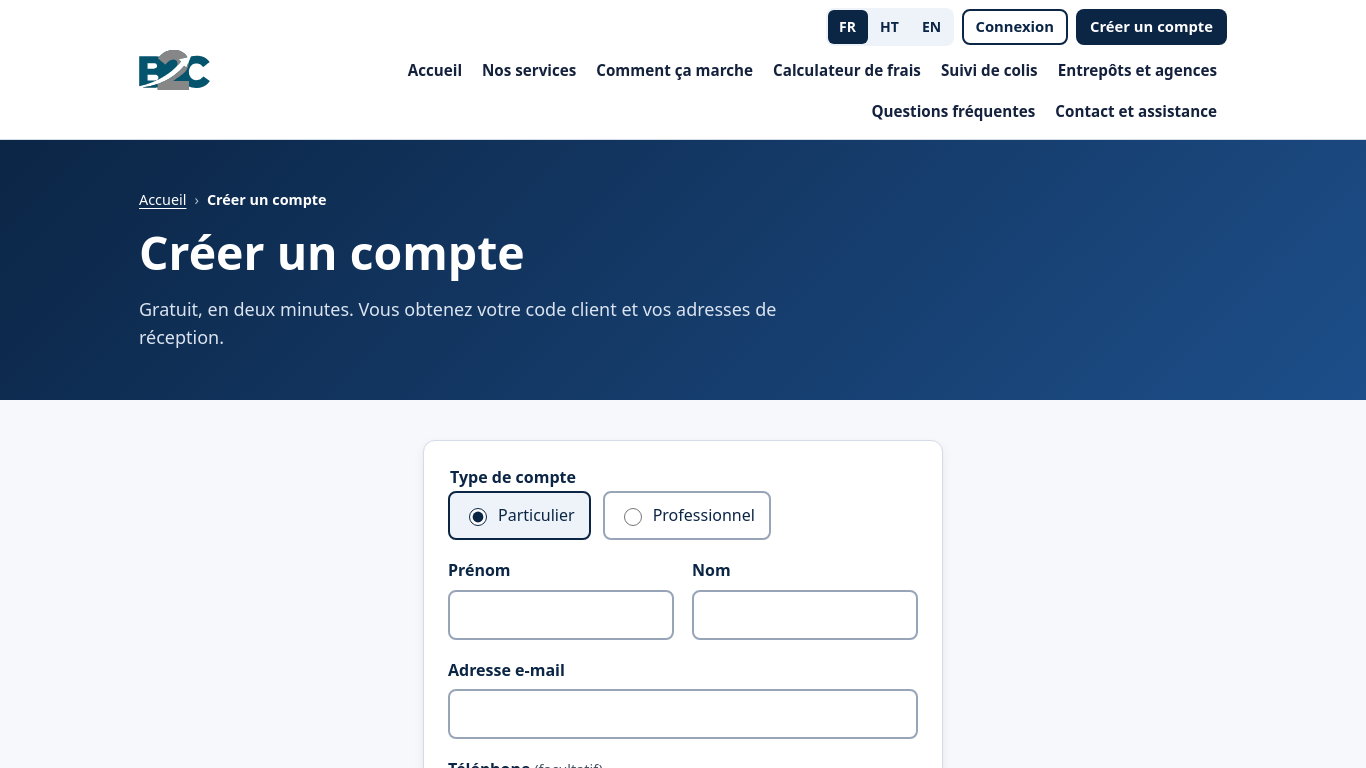
Test case: formulaire d’inscription › une erreur de validation du serveur est rattachée au bon champ, traduite
The width and height of the screenshot is (1366, 768).
Type "Marie" into the field labelled "Prénom" at x=561, y=615, box [448, 590, 674, 640]
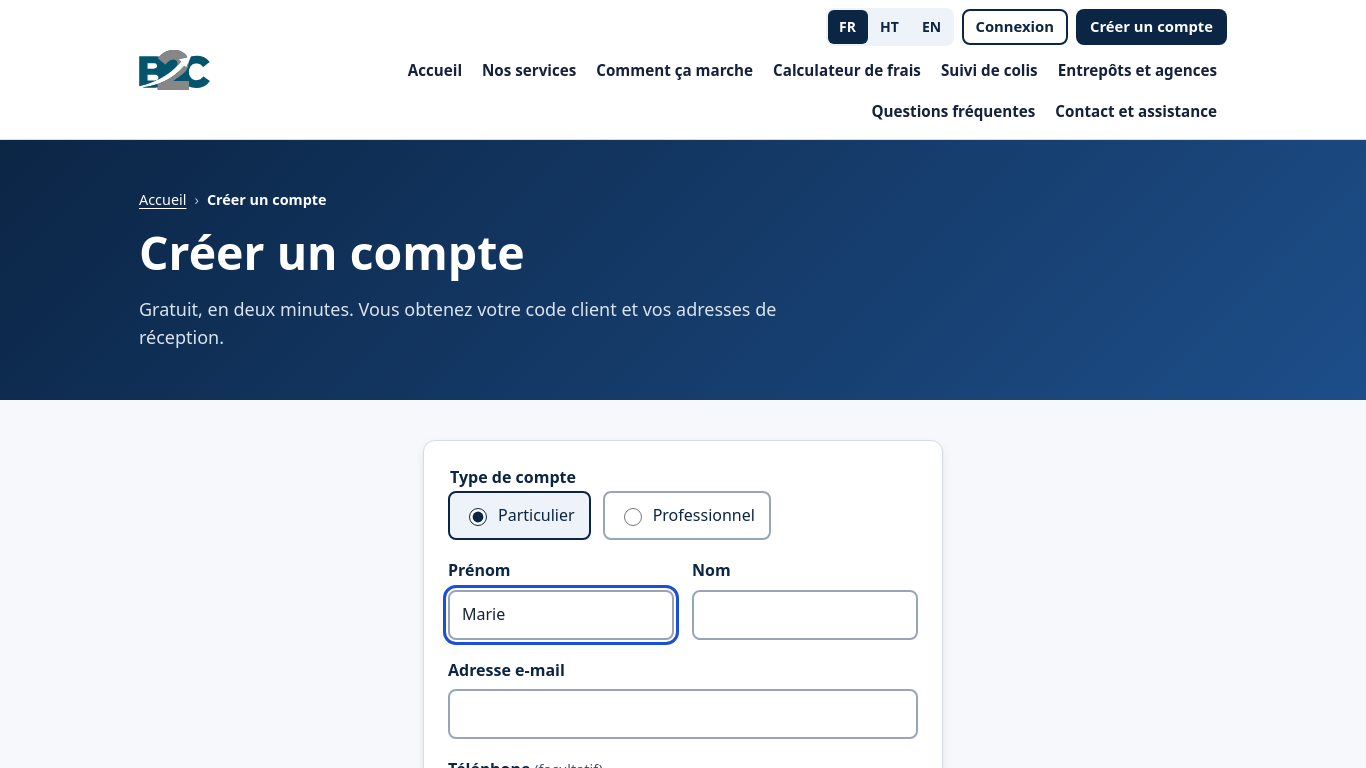
Type "Jean" into the field labelled "Nom" at x=805, y=615, box [692, 590, 918, 640]
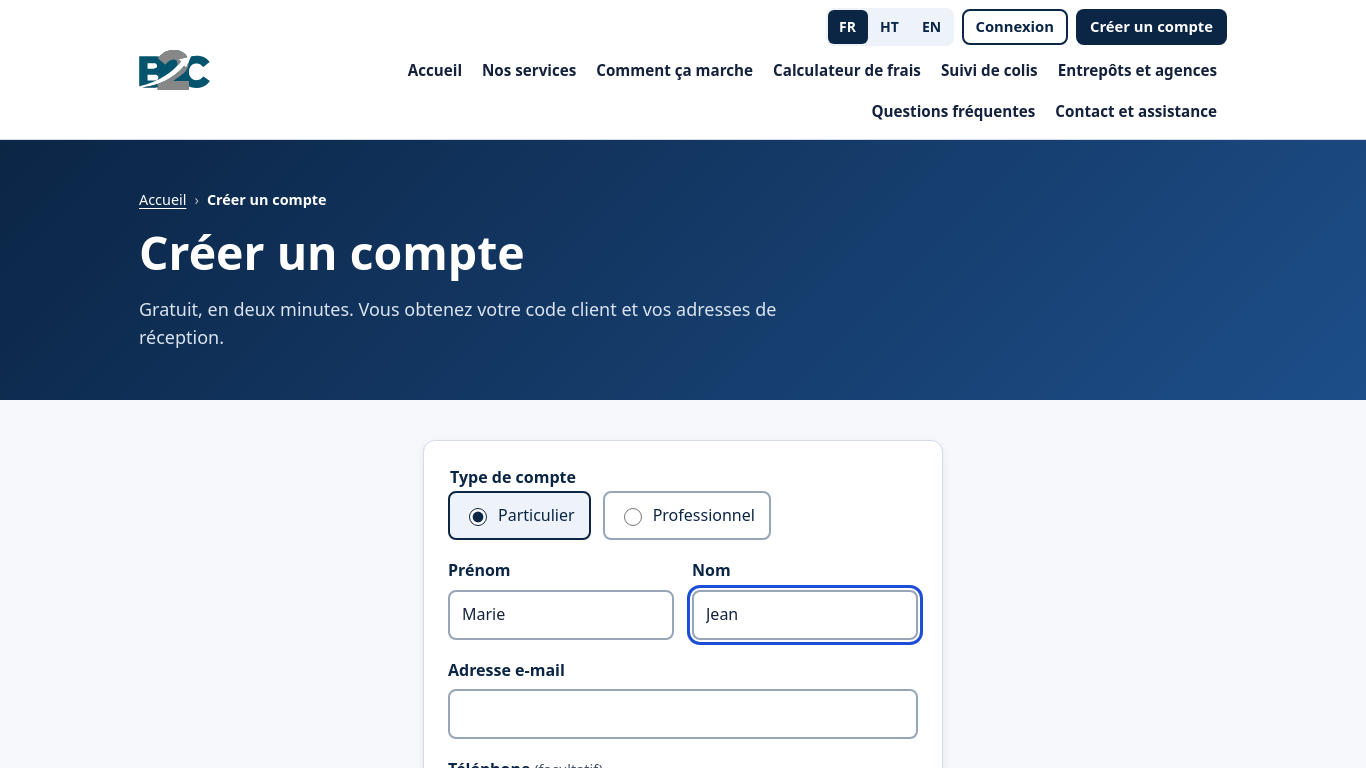
Type "marie@example.test" into the field labelled "Adresse e-mail" at x=683, y=714, box [448, 689, 918, 739]
(page scrolled)
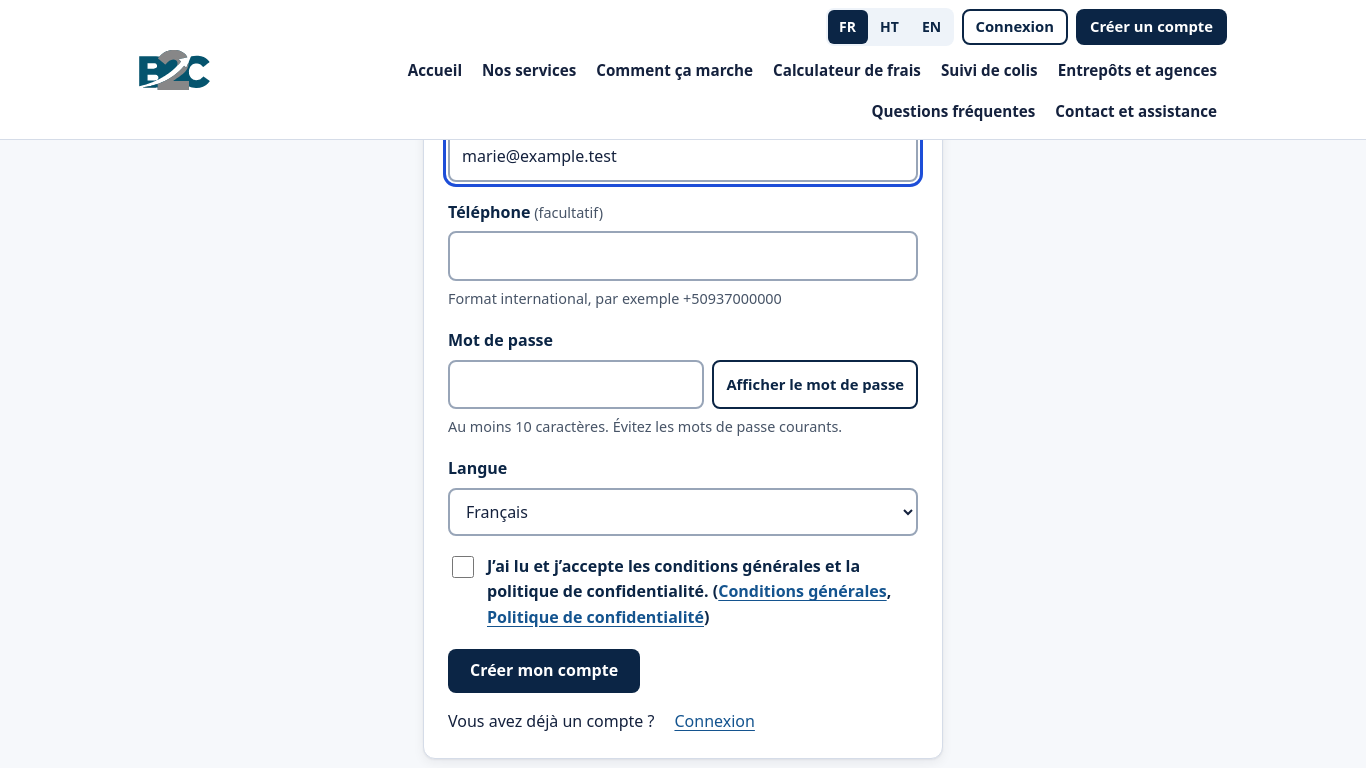
Type "Un-bon-secret-123" into the password field labelled "Mot de passe" at x=576, y=384, box [448, 360, 704, 409]
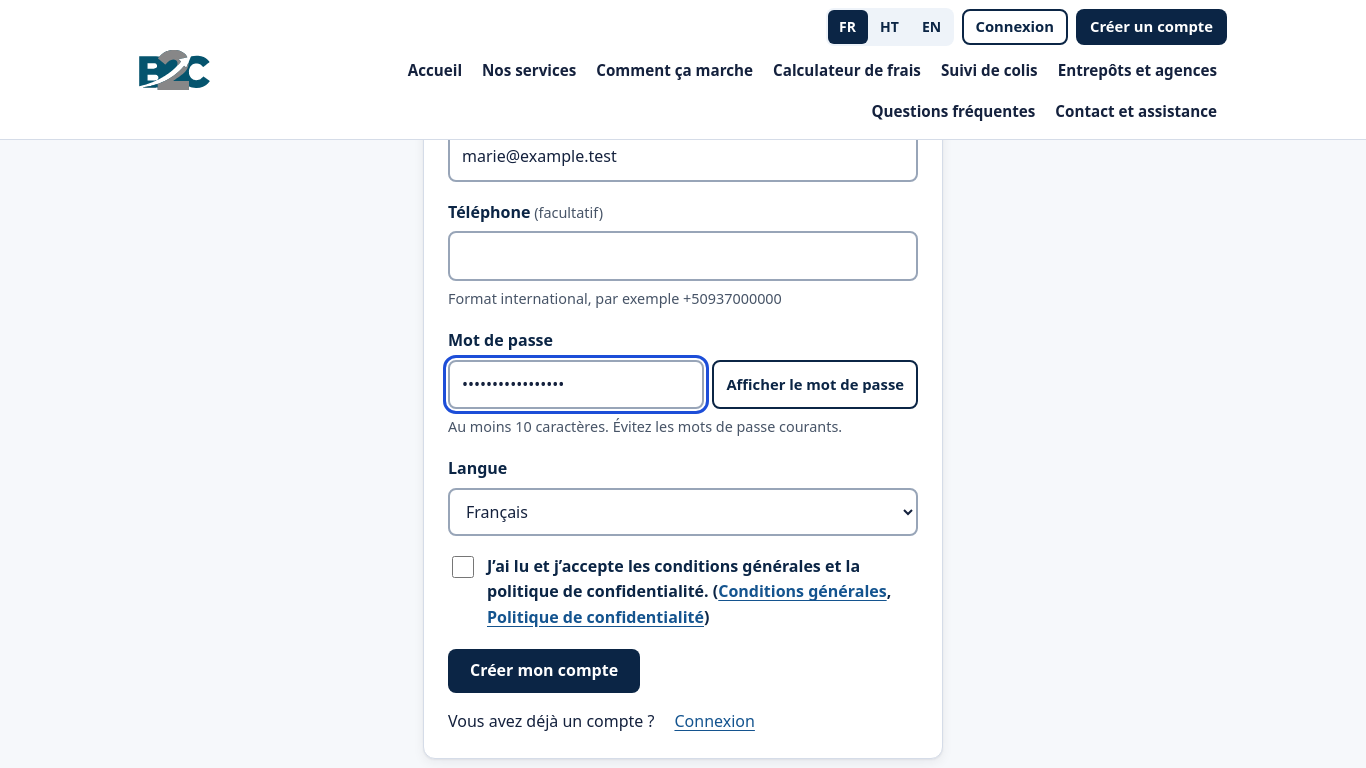
Click the checkbox labelled "J’ai lu et j’accepte" at x=463, y=567, box [452, 556, 474, 578]
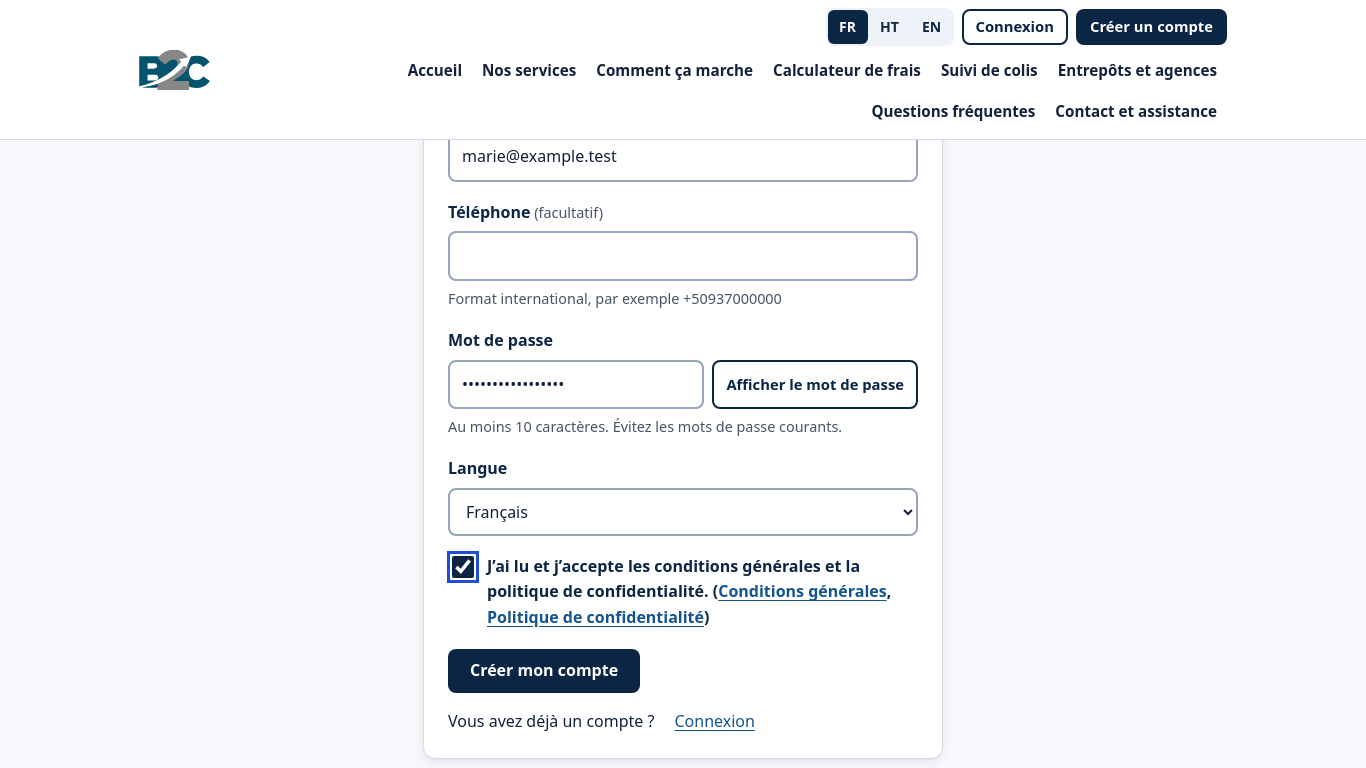
Click the button "Créer mon compte" at x=544, y=671, box [448, 649, 640, 693]
(page scrolled)
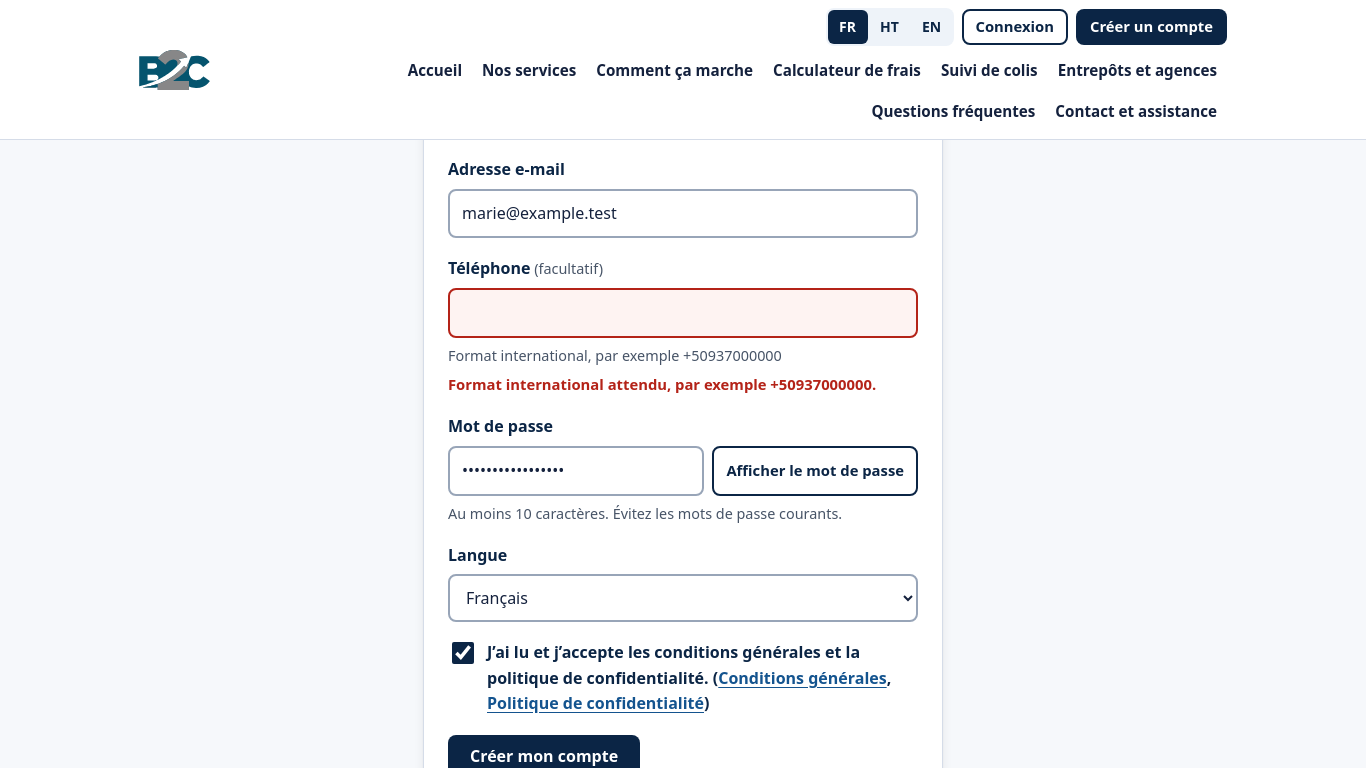
expect the text "Format international attendu, par exemple +50937000000." is shown: met, box [448, 373, 918, 396]
